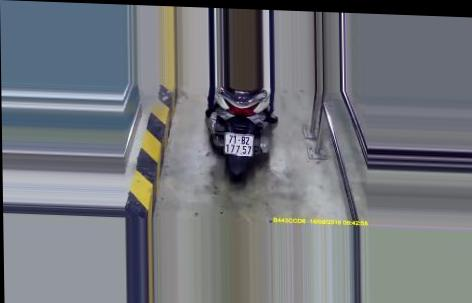License_Plate: (222, 129, 257, 161)
